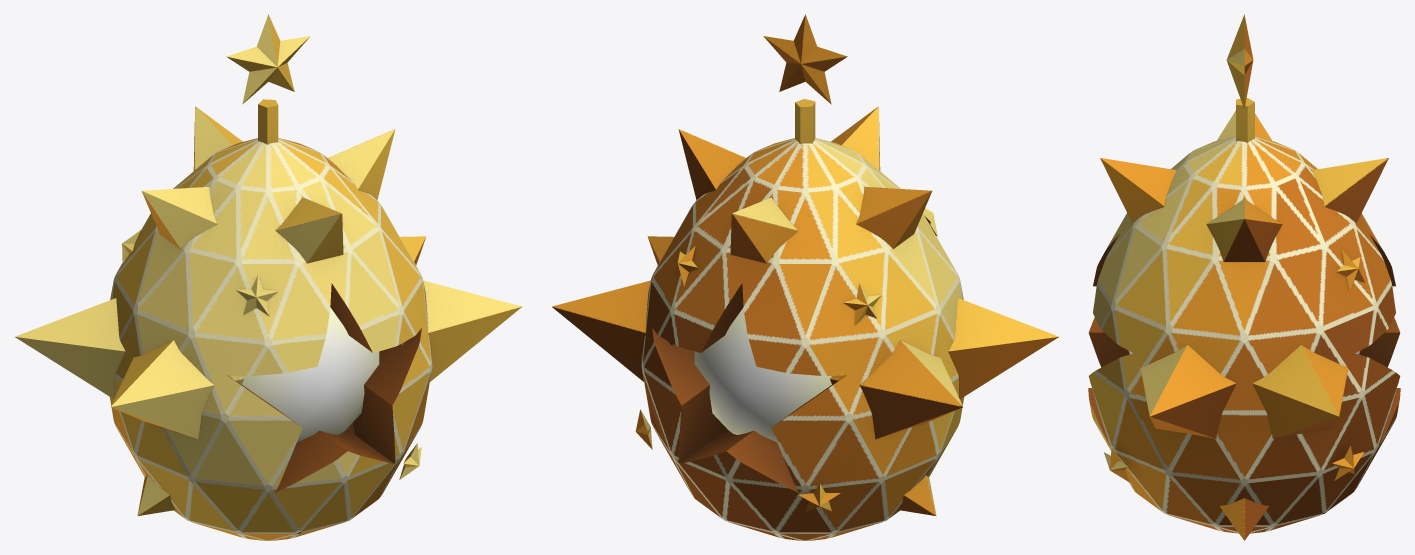
Rendered from egg_star.fbx.
3 views of the same model, side by side, from view 1: azimuth 30°, elevation 25°; view 2: azimuth 150°, elevation 25°; view 3: azimuth 270°, elevation 25° (orthographic).
Visible parts, largest first — view 1: egg_star; view 2: egg_star; view 3: egg_star.
Part boxes in pixels (box(x1,y1,x2,y2)): egg_star: box(14, 14, 521, 540); egg_star: box(552, 14, 1059, 540); egg_star: box(1088, 14, 1400, 540).
Bounding box in the file's own units: 280 × 330 × 186.
Materials: 1 (1 with a texture image).
